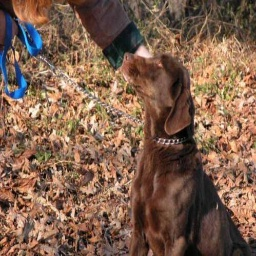dog: (104, 43, 252, 255)
